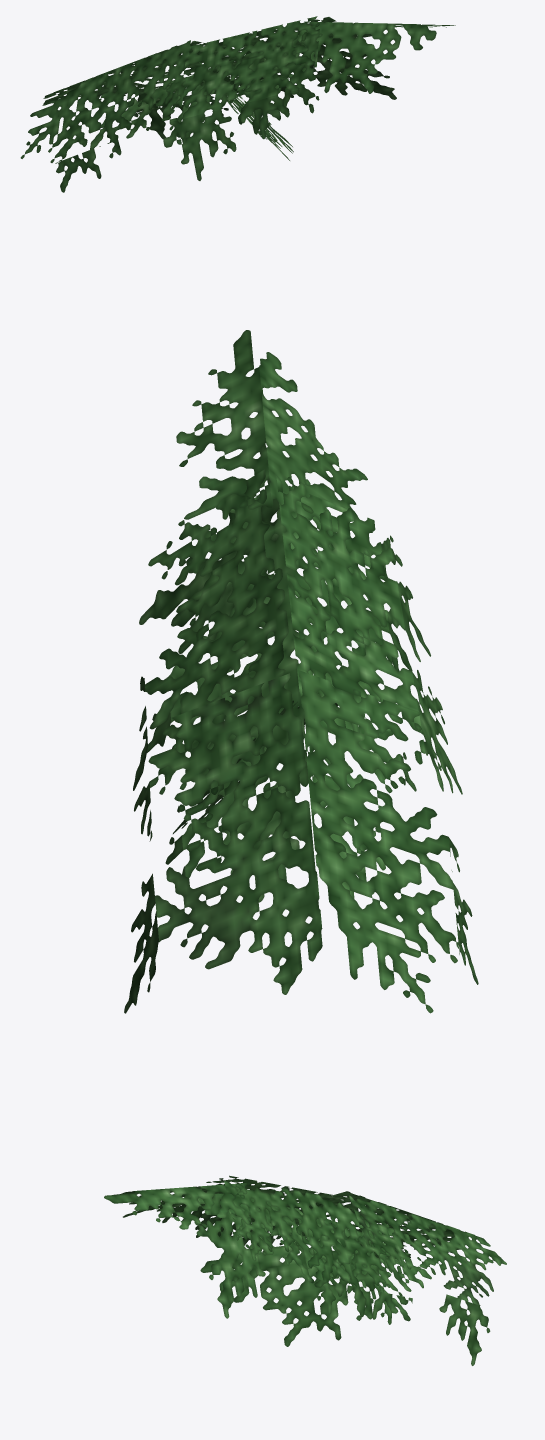
File: spruce_leaves_6.obj
3 renders of one model, top to bottom at view 1: azimuth 30°, elevation 25°; view 2: azimuth 150°, elevation 25°; view 3: azimuth 270°, elevation 25°, orthographic. The views are drawn at different scales.
Parts seen in each view (by area): view 1: plane, cube; view 2: plane, cube; view 3: plane, cube.
Boxes of the visible parts, <box> form: plane: <box>20,16,455,192</box>; cube: <box>199,34,396,160</box>; plane: <box>124,330,478,1013</box>; cube: <box>139,444,338,833</box>; plane: <box>104,1175,506,1365</box>; cube: <box>184,1193,379,1346</box>.
Size of the model in its own units: 2.94 by 2.1 by 3.37.
